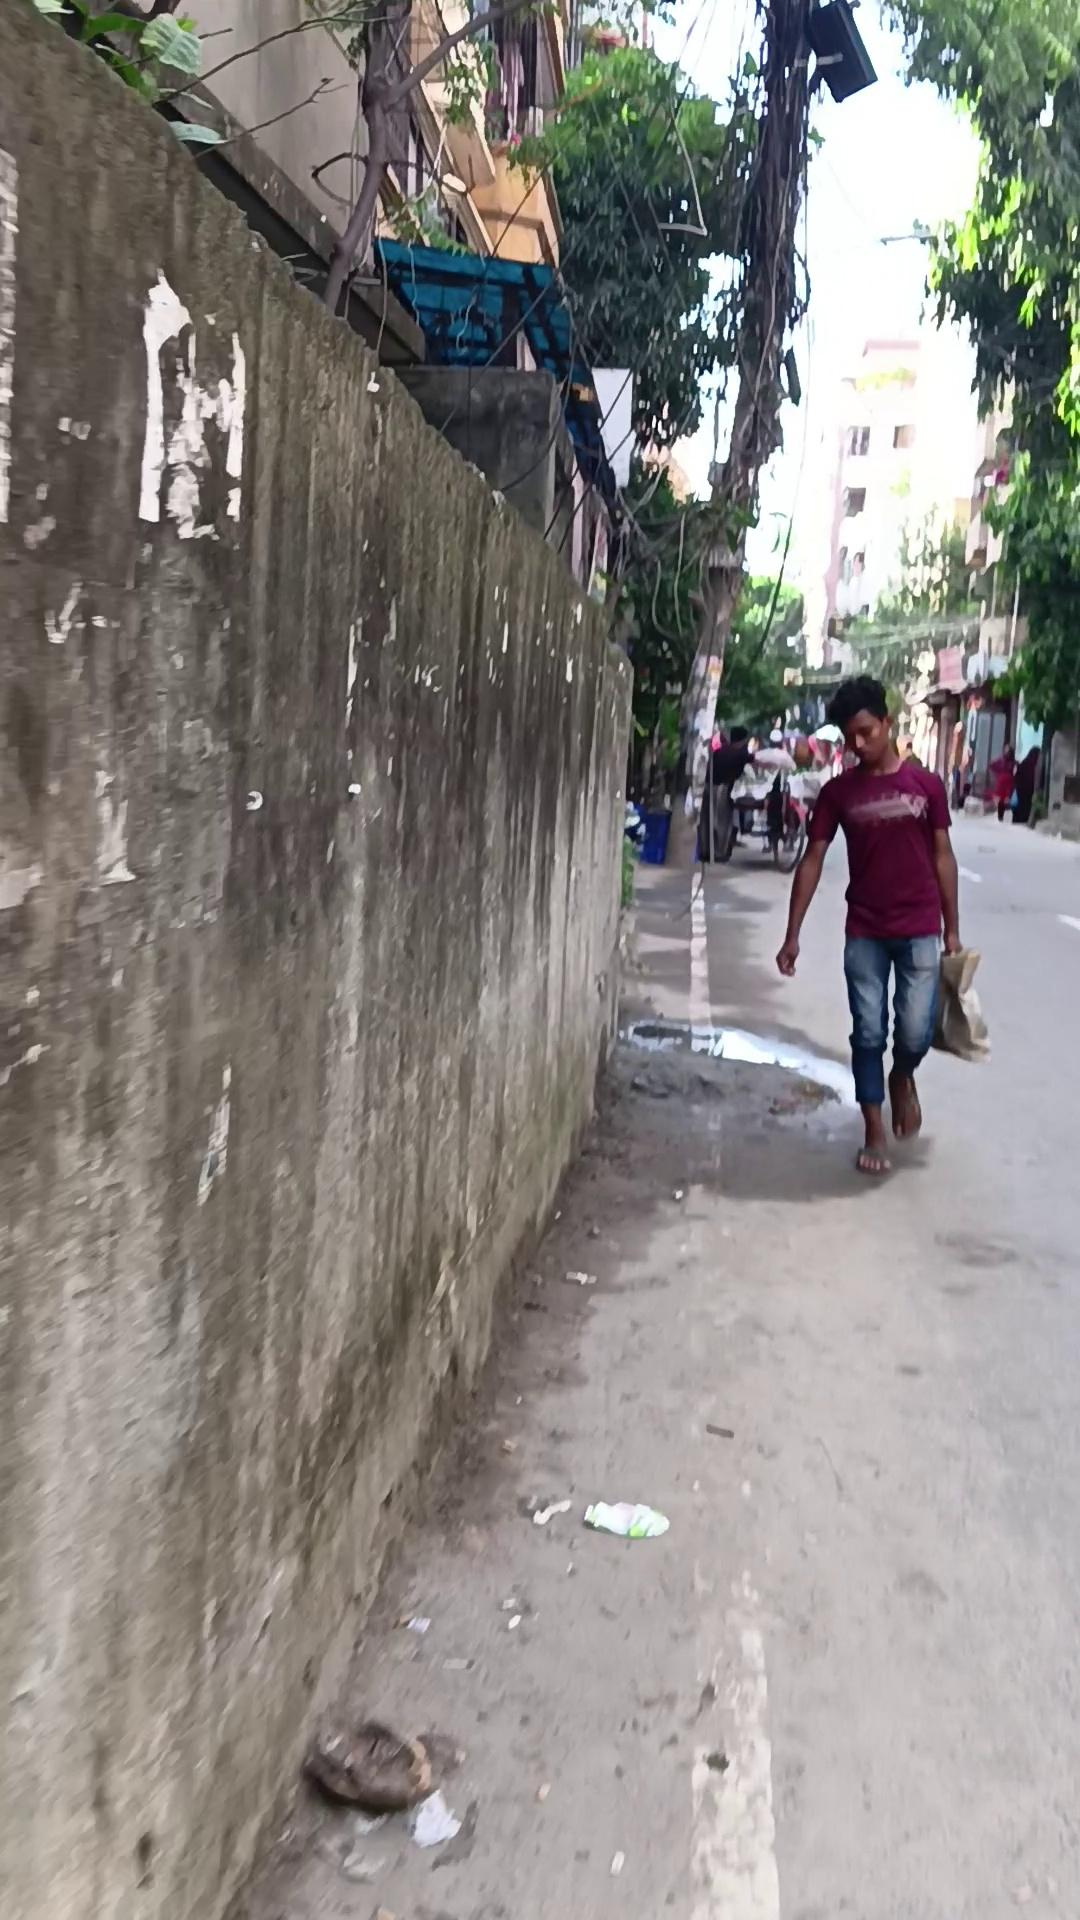Cat: (637, 807, 673, 864)
Crosswalk: (301, 1717, 434, 1811)
Curb: (774, 673, 963, 1174)
Fence: (692, 742, 806, 870)
Garbage: (233, 782, 1080, 1920)
Light-pole: (501, 0, 760, 825), (611, 454, 757, 865)
Obstacle: (0, 0, 615, 1920)
